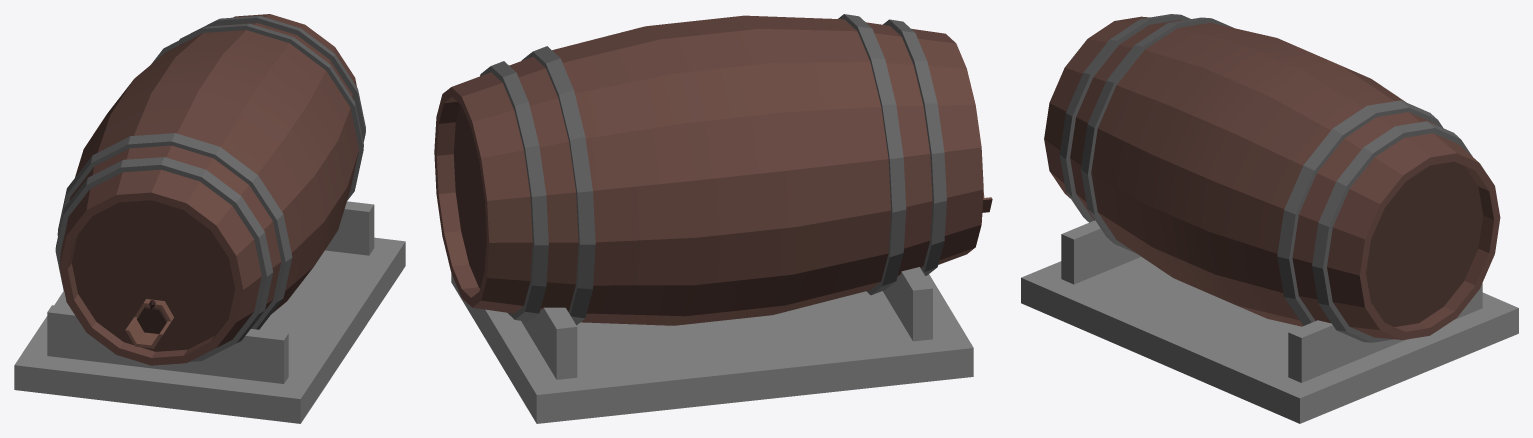
Rendered from Beer barrel.fbx.
3 views of the same model, side by side, from view 1: azimuth 30°, elevation 25°; view 2: azimuth 150°, elevation 25°; view 3: azimuth 270°, elevation 25° (orthographic). The views are drawn at different scales.
Visible parts, largest first — view 1: Cylinder; view 2: Cylinder; view 3: Cylinder.
Boxes of the visible parts, x1,y1,x2,y2 form: Cylinder: (14,14,405,423); Cylinder: (434,14,992,423); Cylinder: (1021,14,1518,423).
Size of the model in its own units: 4.37 by 2.54 by 4.36.
